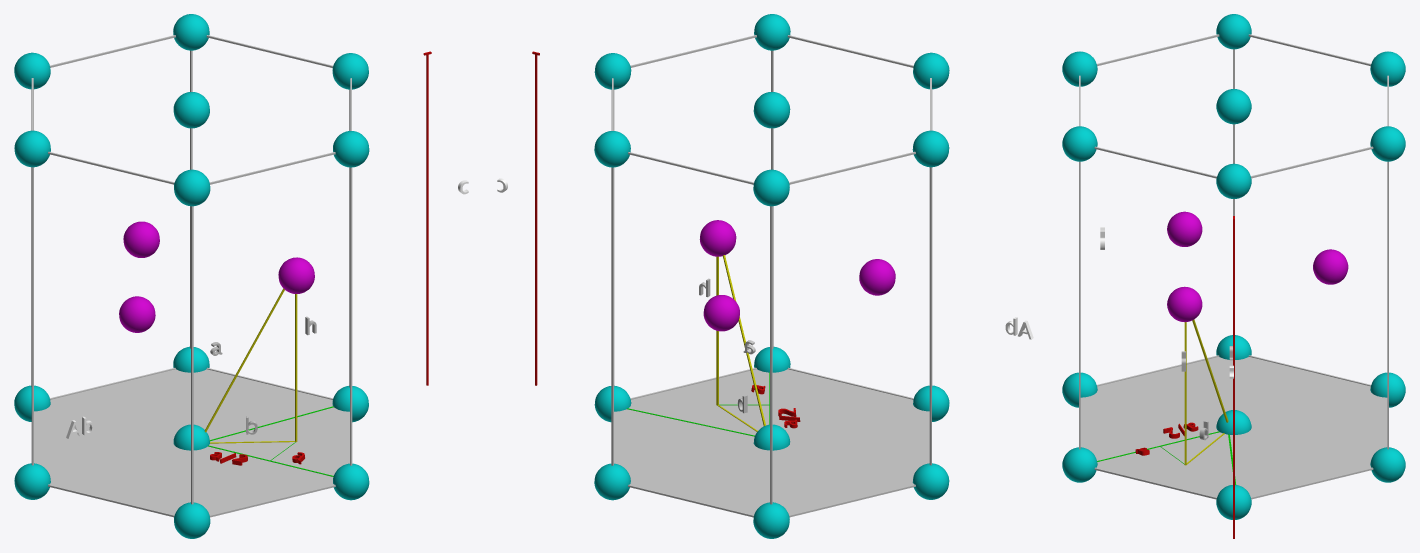
Rendered from modelo_hcp.glb.
3 views of the same model, side by side, from view 1: azimuth 30°, elevation 25°; view 2: azimuth 150°, elevation 25°; view 3: azimuth 270°, elevation 25° (orthographic). The views are drawn at different scales.
Visible parts, largest first — view 1: typeMesh8; view 2: typeMesh8; view 3: typeMesh8.
Part boxes in pixels (x1,y1,x2,y2): typeMesh8: (14, 14, 468, 538); typeMesh8: (497, 14, 1033, 538); typeMesh8: (1062, 14, 1405, 538).
Size of the model in its own units: 2.94 by 2.2 by 1.94.
